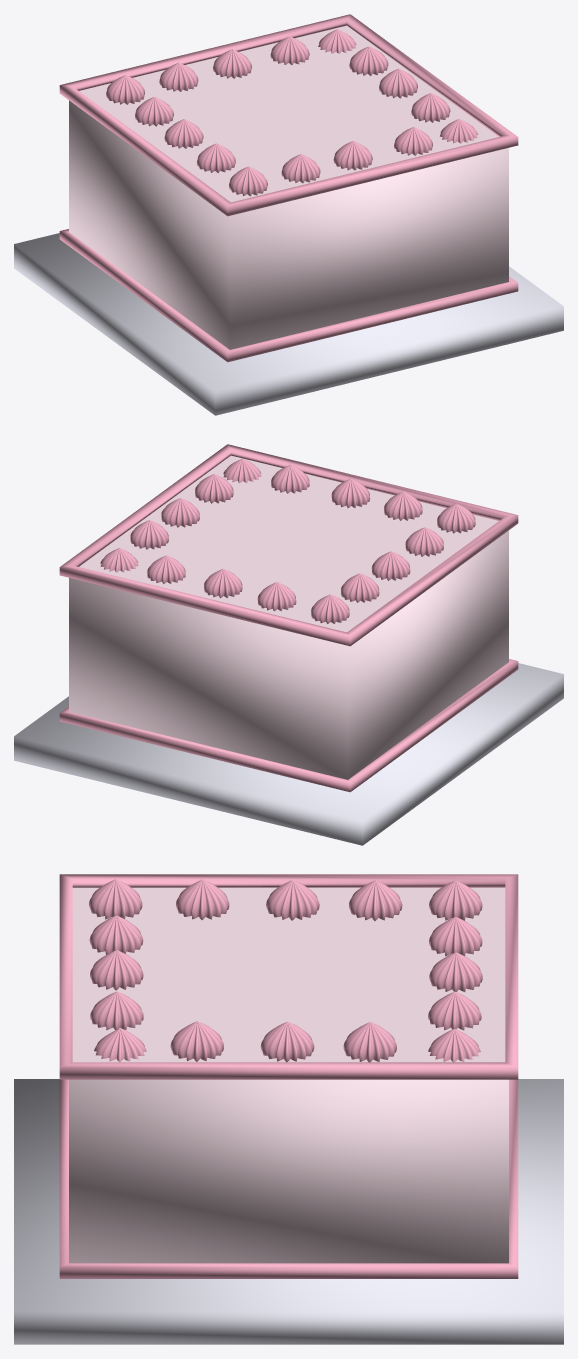
The model's file is square_strawberry_style1.glb.
3 views of the same model, one above another, from view 1: azimuth 30°, elevation 25°; view 2: azimuth 150°, elevation 25°; view 3: azimuth 270°, elevation 25° (orthographic). The views are drawn at different scales.
Visible parts, largest first — view 1: CakeBase, IcingStand, CakeTopCircle, IcingRing.001, IcingRing, design13, design12, design15, design3, design14, design1, design4 (+9 smaller); view 2: CakeBase, IcingStand, CakeTopCircle, IcingRing.001, IcingRing, design12, design13, design15, design16, design14, design1, design4 (+9 smaller); view 3: CakeBase, IcingStand, CakeTopCircle, IcingRing.001, IcingRing, design1, design3, design4, design12, design8, design9, design14 (+9 smaller).
Part boxes in pixels (left/top/right/bottom): CakeBase: left=69, top=100, right=508, bottom=349; IcingStand: left=14, top=233, right=563, bottom=415; CakeTopCircle: left=79, top=25, right=498, bottom=202; IcingRing.001: left=59, top=14, right=518, bottom=216; IcingRing: left=59, top=229, right=518, bottom=362; design13: left=229, top=166, right=267, bottom=196; design12: left=106, top=75, right=144, bottom=104; design15: left=135, top=97, right=173, bottom=126; design3: left=349, top=46, right=388, bottom=75; design14: left=197, top=143, right=235, bottom=173; design1: left=379, top=68, right=417, bottom=98; design4: left=411, top=93, right=450, bottom=122; CakeBase: left=69, top=530, right=508, bottom=779; IcingStand: left=14, top=663, right=563, bottom=845; CakeTopCircle: left=79, top=455, right=498, bottom=632; IcingRing.001: left=59, top=444, right=518, bottom=646; IcingRing: left=59, top=659, right=518, bottom=792; design12: left=311, top=594, right=349, bottom=623; design13: left=437, top=503, right=475, bottom=533; design15: left=340, top=573, right=379, bottom=602; design16: left=371, top=551, right=410, bottom=580; design14: left=405, top=527, right=443, bottom=556; design1: left=161, top=498, right=199, bottom=527; design4: left=195, top=474, right=233, bottom=503; CakeBase: left=69, top=1079, right=508, bottom=1263; IcingStand: left=14, top=1079, right=563, bottom=1344; CakeTopCircle: left=72, top=887, right=505, bottom=1062; IcingRing.001: left=59, top=874, right=518, bottom=1079; IcingRing: left=59, top=1079, right=518, bottom=1278; design1: left=260, top=1021, right=314, bottom=1062; design3: left=343, top=1022, right=396, bottom=1062; design4: left=170, top=1021, right=223, bottom=1061; design12: left=429, top=880, right=482, bottom=920; design8: left=429, top=952, right=482, bottom=991; design9: left=90, top=950, right=143, bottom=990; design14: left=176, top=879, right=229, bottom=919.
Bounding box in the file's own units: 3 × 1.69 × 3.
